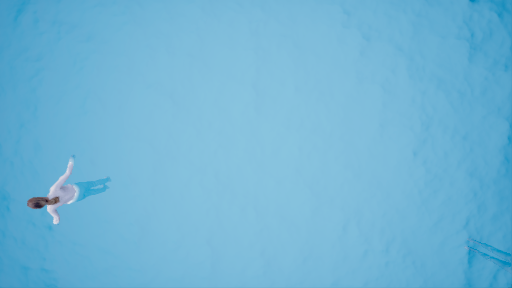person: (23, 156, 125, 226)
